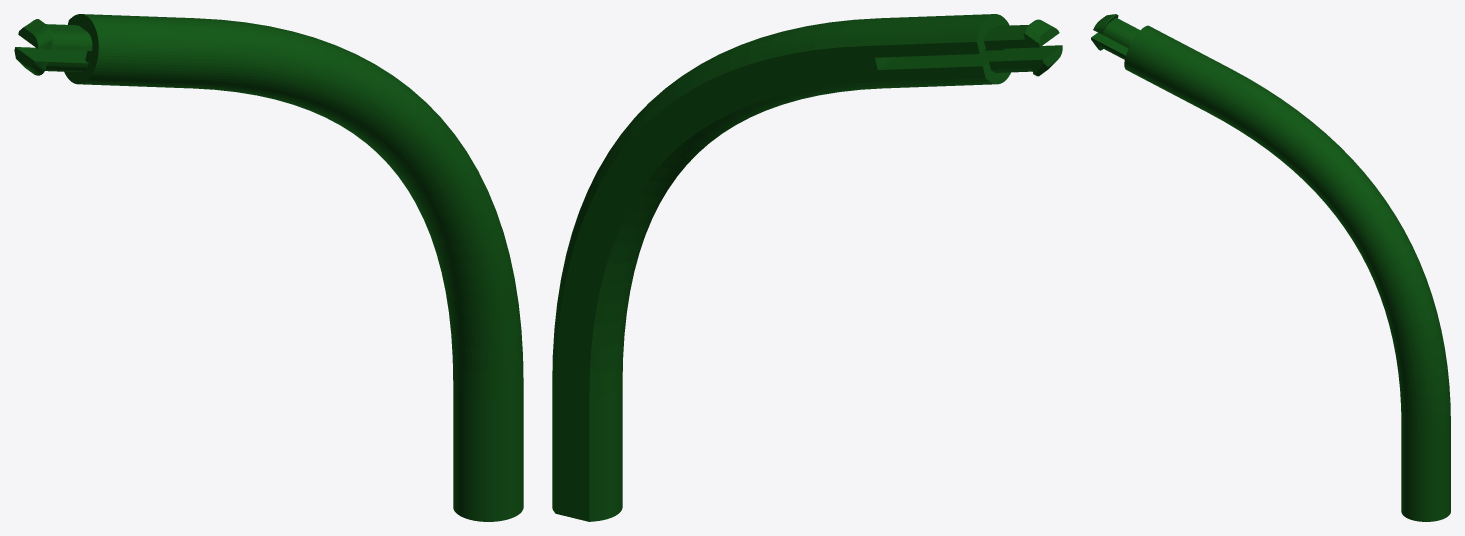
The model's file is stem_3A_75_L.glb.
The picture shows the model from 3 angles, left to right: view 1: azimuth 30°, elevation 25°; view 2: azimuth 150°, elevation 25°; view 3: azimuth 330°, elevation 25°; orthographic projection. The views are drawn at different scales.
Visible parts, largest first — view 1: stem_3A_75_L; view 2: stem_3A_75_L; view 3: stem_3A_75_L.
Boxes of the visible parts, <box> form: stem_3A_75_L: <box>14,14,523,521</box>; stem_3A_75_L: <box>552,14,1062,521</box>; stem_3A_75_L: <box>1091,14,1450,521</box>.
Bounding box in the file's own units: 0.0587 × 0.0669 × 0.00666.
